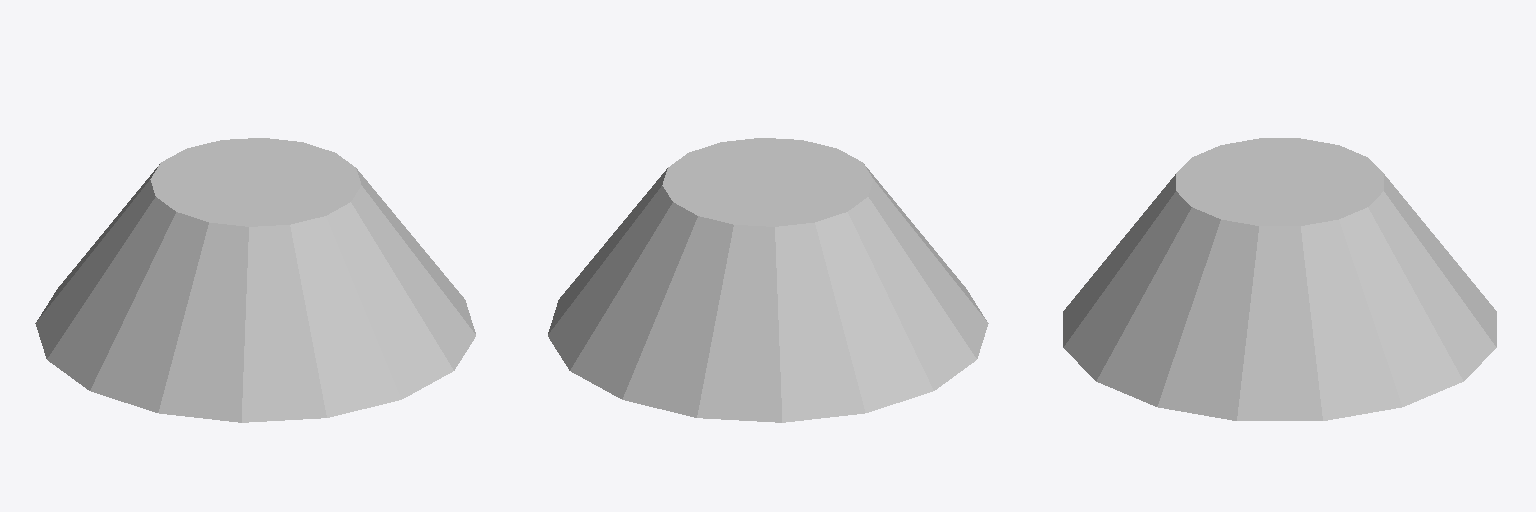
The model's file is zarya neck collider.obj.
3 views of the same model, side by side, from view 1: azimuth 30°, elevation 25°; view 2: azimuth 150°, elevation 25°; view 3: azimuth 270°, elevation 25° (orthographic).
Visible parts, largest first — view 1: c; view 2: c; view 3: c.
Part boxes in pixels (x1,y1,x2,y2): c: (35,138,475,422); c: (548,138,988,422); c: (1063,138,1496,420).
Bounding box in the file's own units: 1.8 × 0.675 × 1.8.